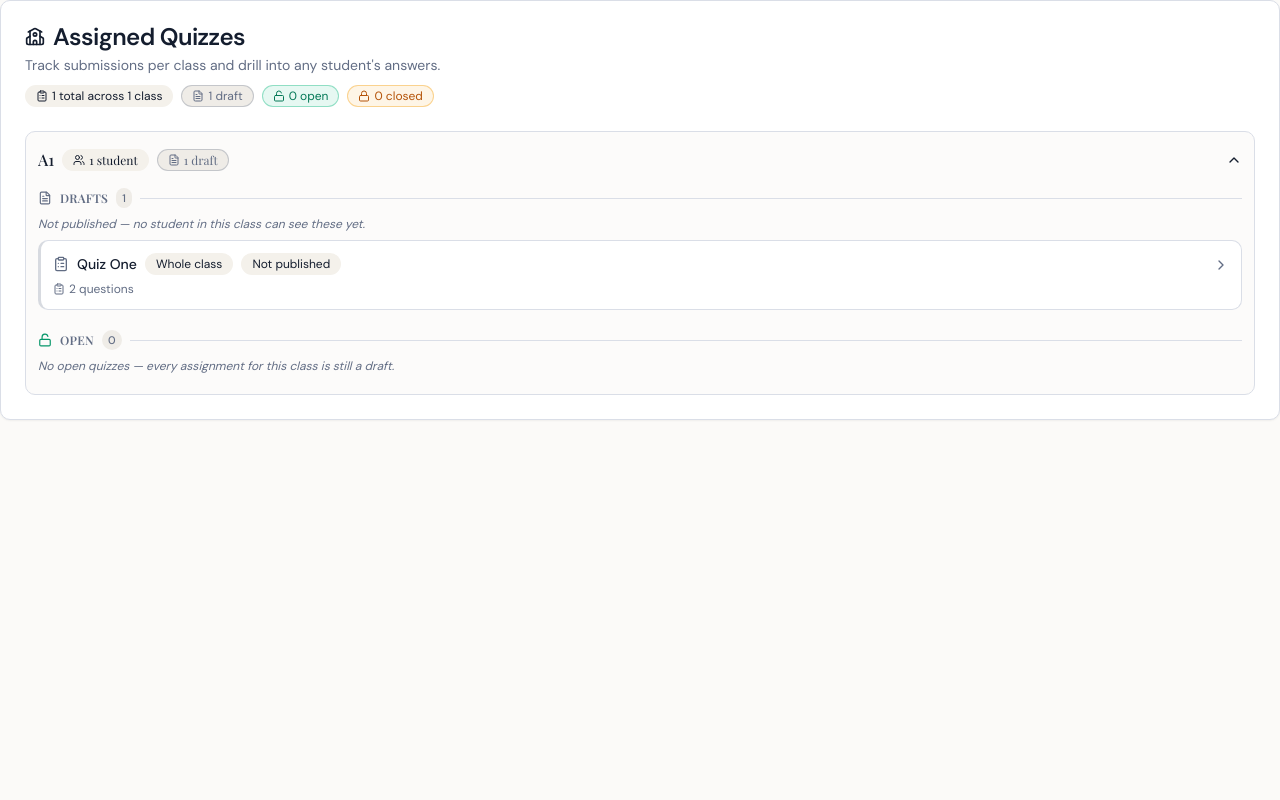
Test: AssignedQuizzesBoard › hides scores for in-progress sessions and exposes a Mark complete action
The image size is (1280, 800).
Expected: the text "A1" is shown, [38,148,54,172]
Expected: the text "Quiz One" is shown, [77,254,137,274]
Click the button "Quiz One Whole class Not published 2 questions" at (107, 264), box [41,241,1241,309]
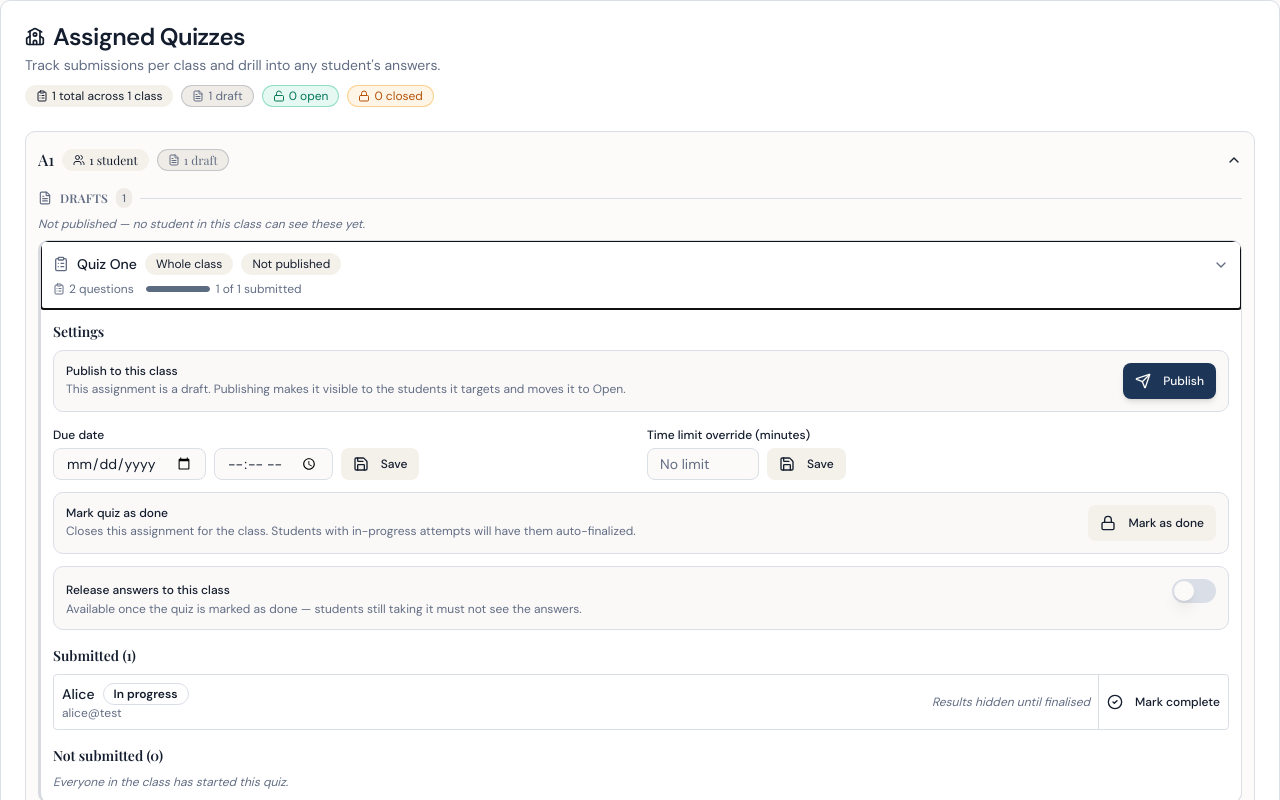
Expected: the text "Alice" is shown, [62,684,95,704]
Expected: the text "Results hidden until finalised" is shown, [932,694,1090,710]
Expected: the button with aria-label "Mark Alice's attempt as completed" is shown, [1098,675,1228,729]
